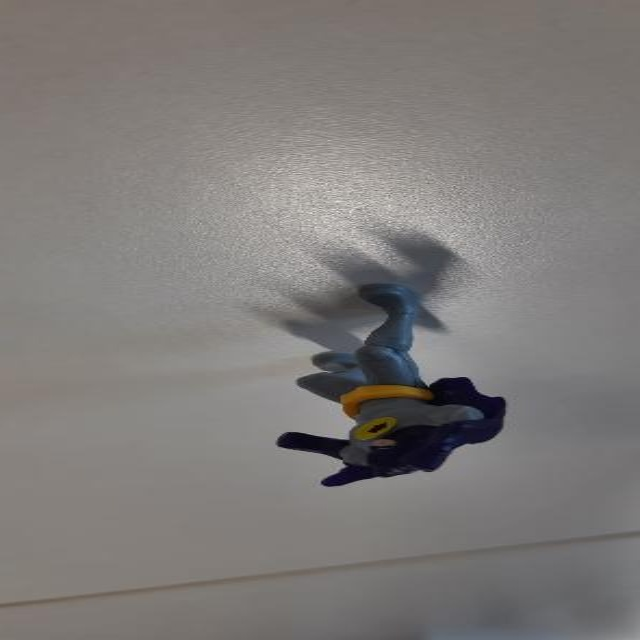Batman: (236, 250, 536, 498)
